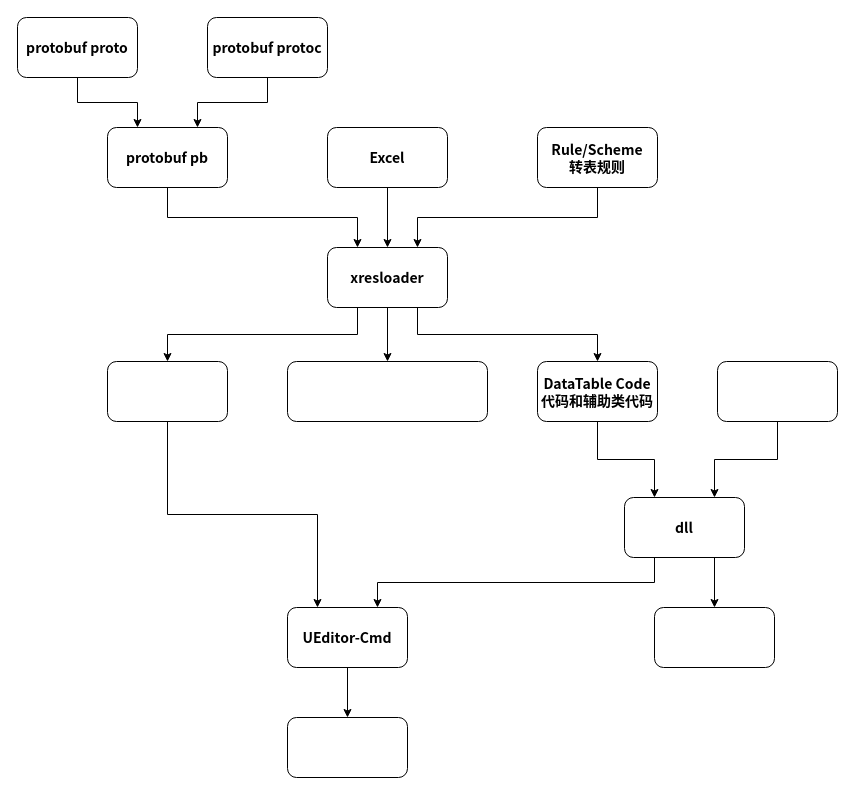
Some shapes in this 855 by 795 pixel diagram are drawn without their labels. The shapes that lost their labels are listed below. From the top down, each one's centre as x and y in pixels, then its label:
At point (167, 391): "DataTable Csv/Json 数据".
At point (387, 391): "UE导入规则文件 UnreaImportSettings.json".
At point (777, 391): "Compiler 编译器".
At point (714, 637): "UEditor".
At point (347, 747): "uassert UE资源文件".
